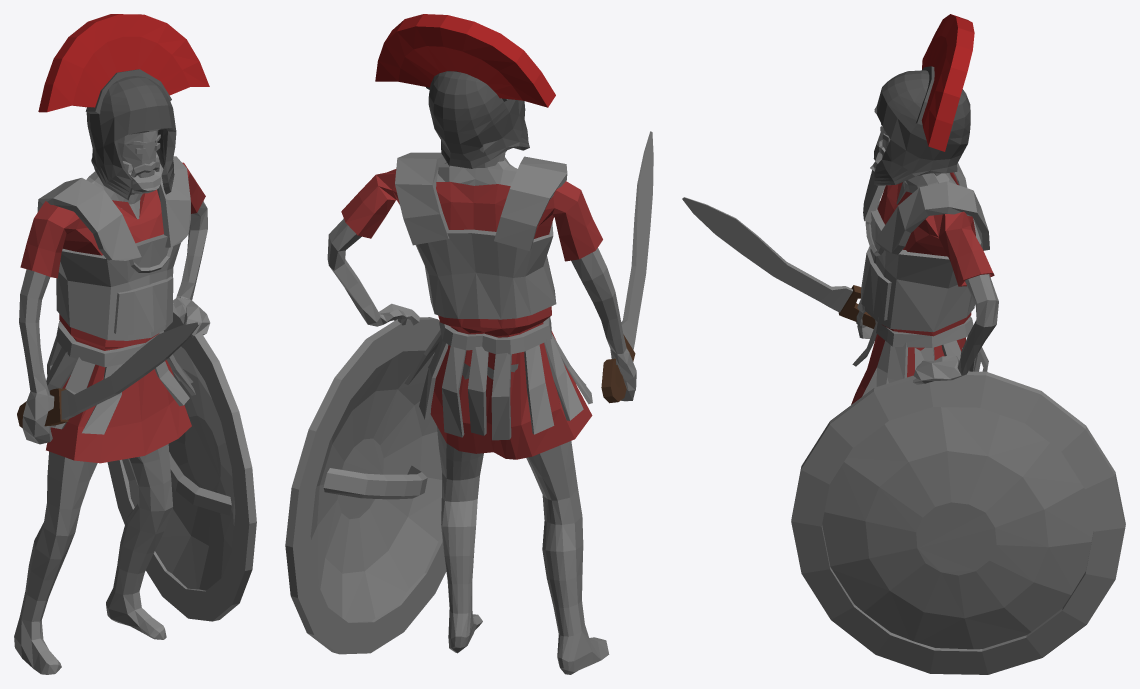
Rendered from SM_statue_02.fbx.
3 renders of one model, left to right at view 1: azimuth 30°, elevation 25°; view 2: azimuth 150°, elevation 25°; view 3: azimuth 270°, elevation 25°, orthographic. The views are drawn at different scales.
Visible parts, largest first — view 1: Line013232; view 2: Line013232; view 3: Line013232.
Part boxes in pixels (x1=…): Line013232: x1=14, y1=14, x2=256, y2=674; Line013232: x1=285, y1=14, x2=653, y2=674; Line013232: x1=682, y1=14, x2=1125, y2=674.
Size of the model in its own units: 33.38 by 81.32 by 53.15.
